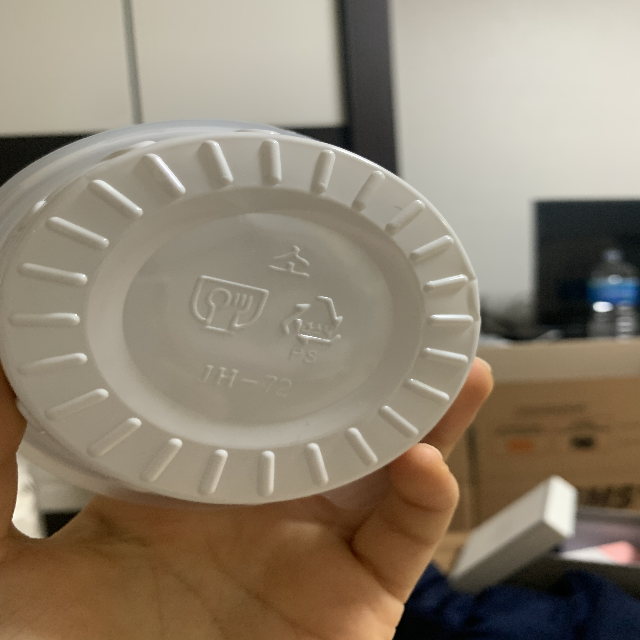ps: (279, 290, 349, 366)
